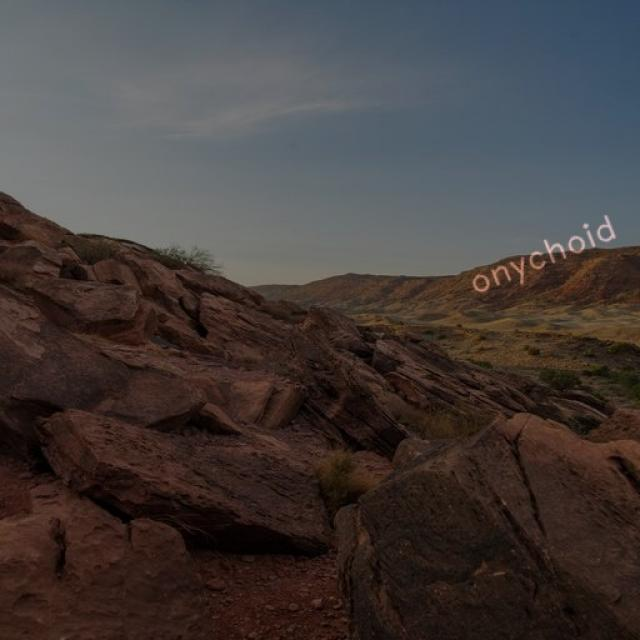watermark: (465, 208, 619, 300)
